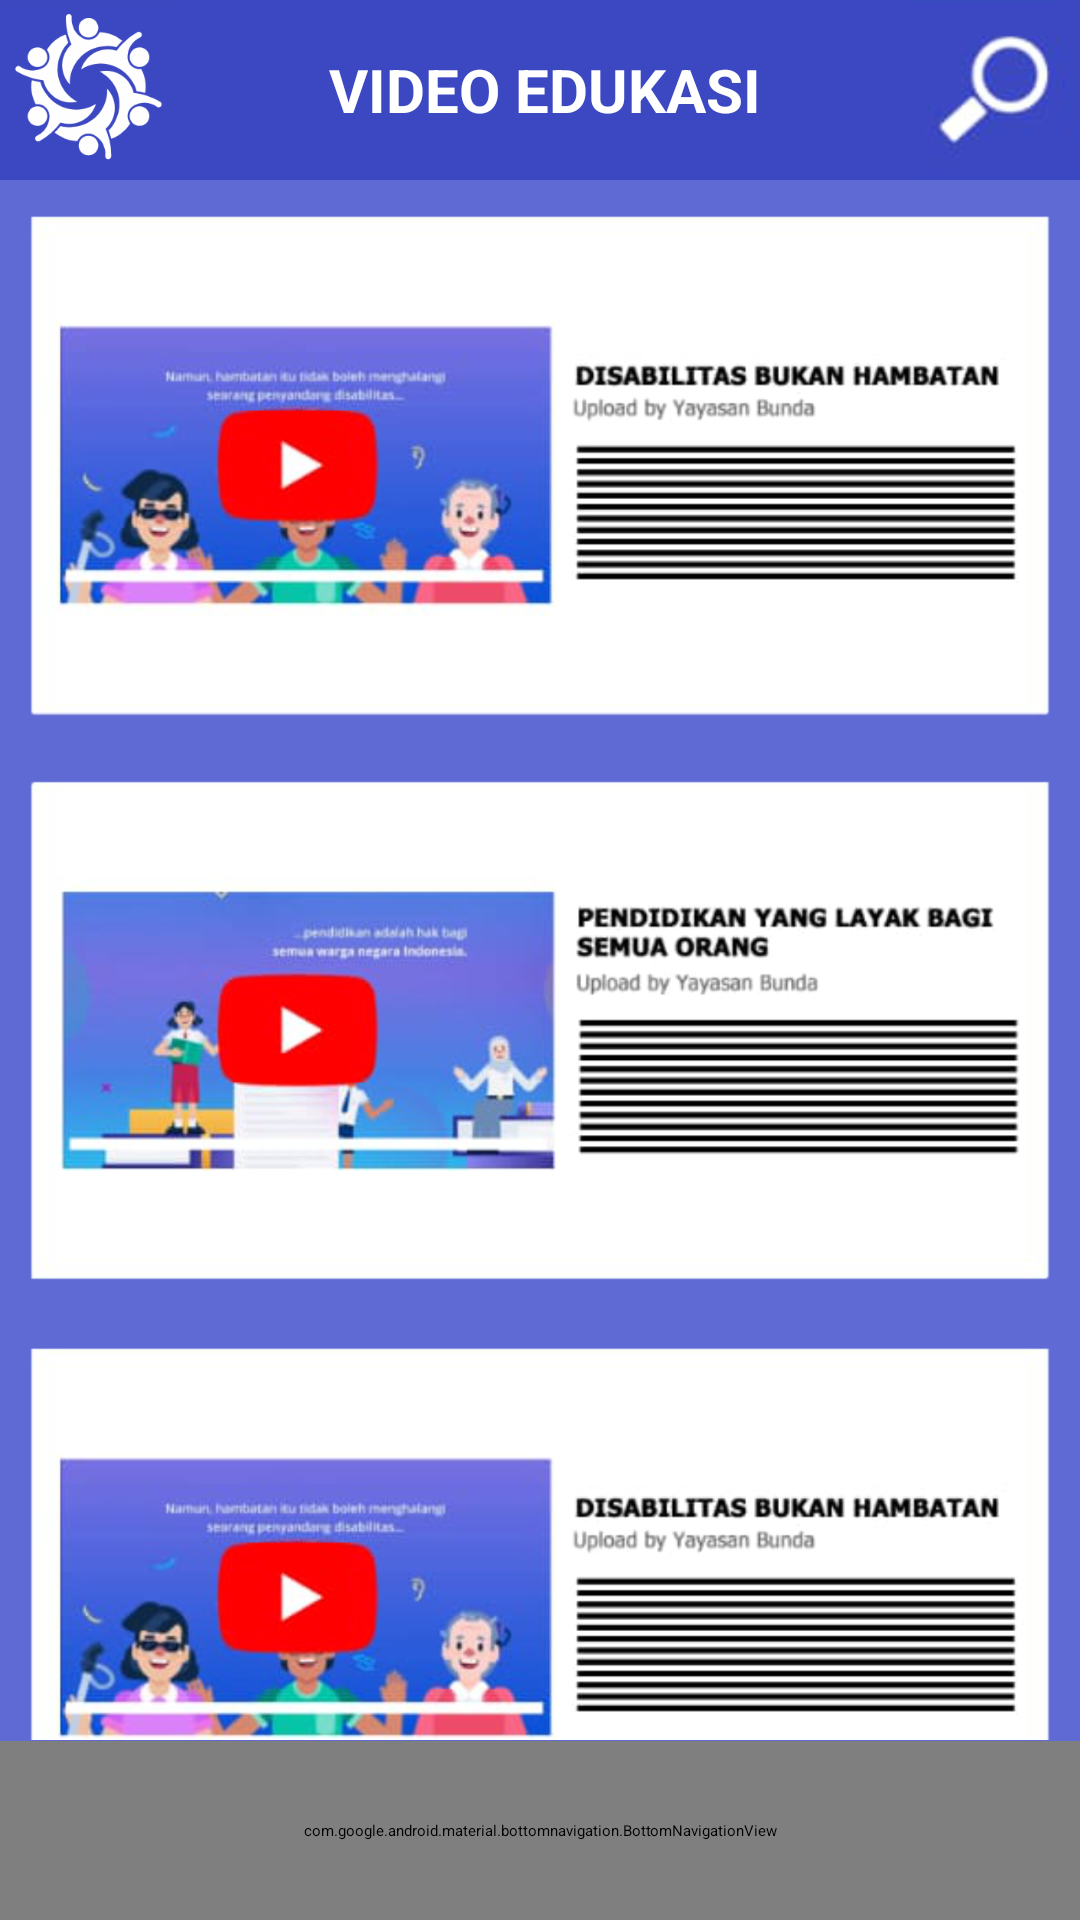

Named icons in this screenshot (1080 × 1920) and their centers, [x,y]:
circle nav: [88,87]
search nav: [994,89]
